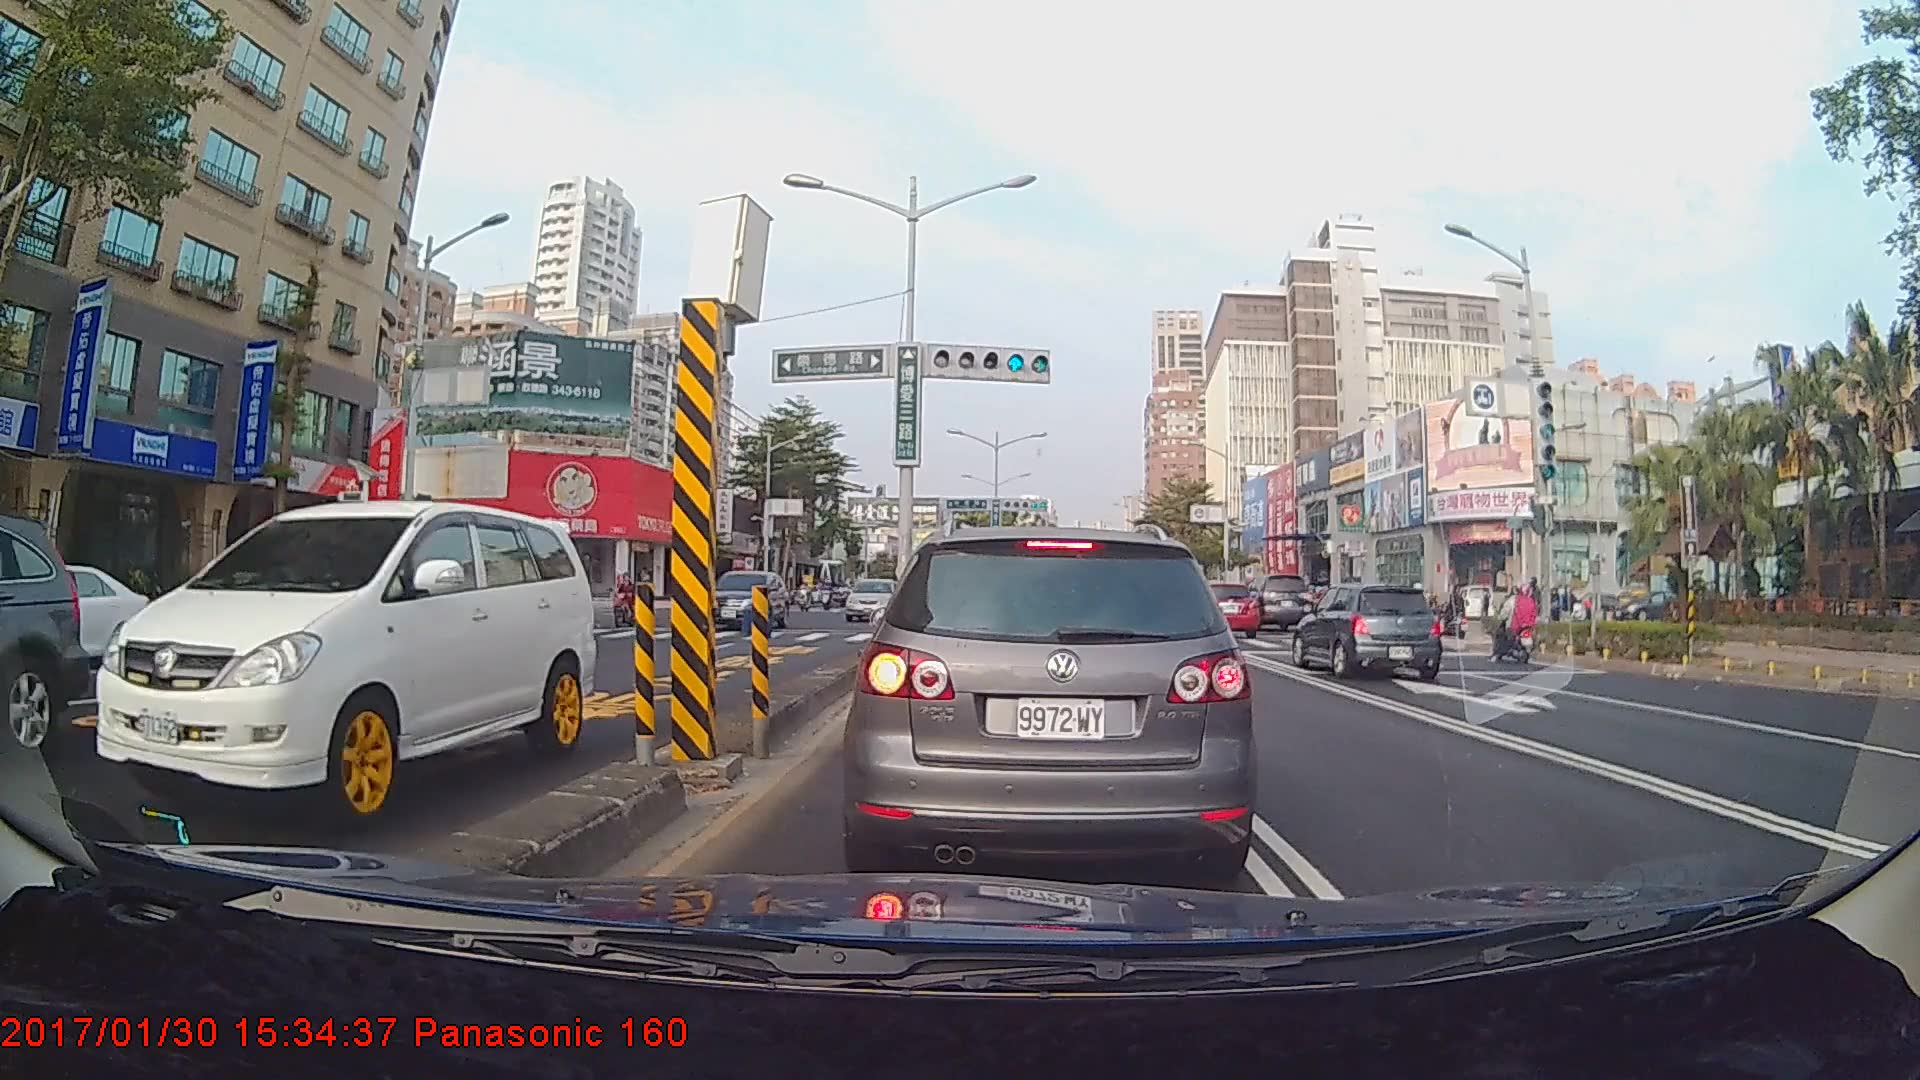rider: (1485, 582, 1548, 668), (1436, 582, 1473, 646), (608, 566, 640, 634)
vehicle: (92, 493, 593, 830), (852, 522, 1251, 876), (1, 508, 90, 763), (0, 561, 158, 671), (1289, 581, 1443, 679), (697, 569, 788, 630), (1235, 571, 1313, 633), (1186, 581, 1260, 639), (843, 577, 901, 620)
